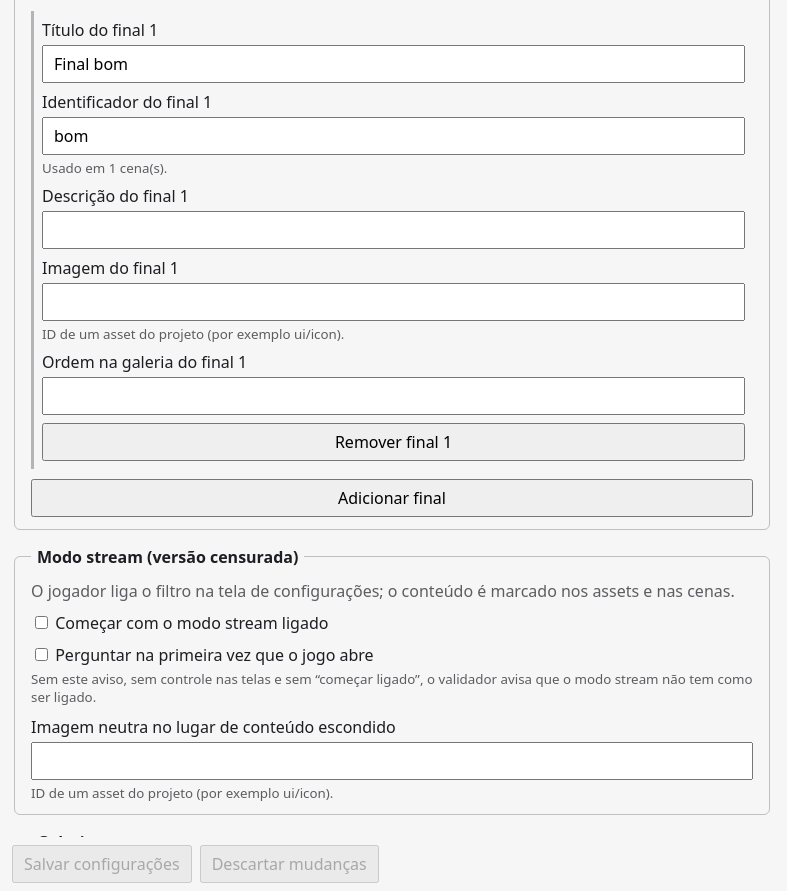
Test case: ProjectSettings (M7-10) › não deixa remover um final que uma cena usa
(page scrolled)
Expected: the text "Usado em 1 cena(s)." is shown, [42,159,168,177]
Click the button "Remover final 1": (394, 442) [42,423,745,461]
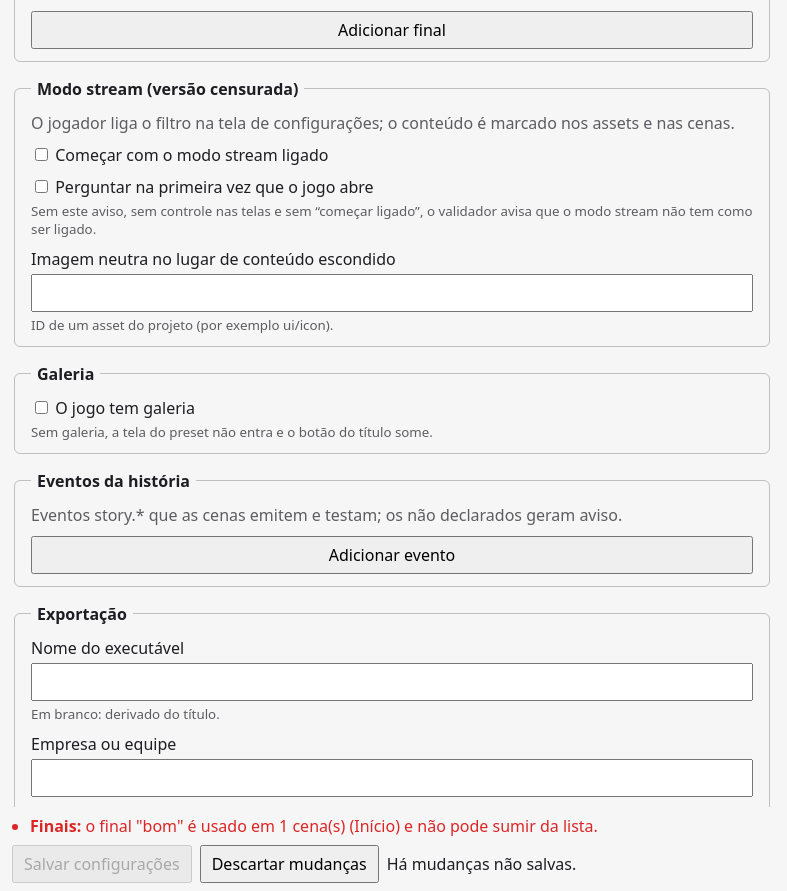
Expected: the button "Salvar configurações" is disabled, [12,845,192,883]
Result: the list item "é usado em 1 cena" is shown at [85,815,598,837]
